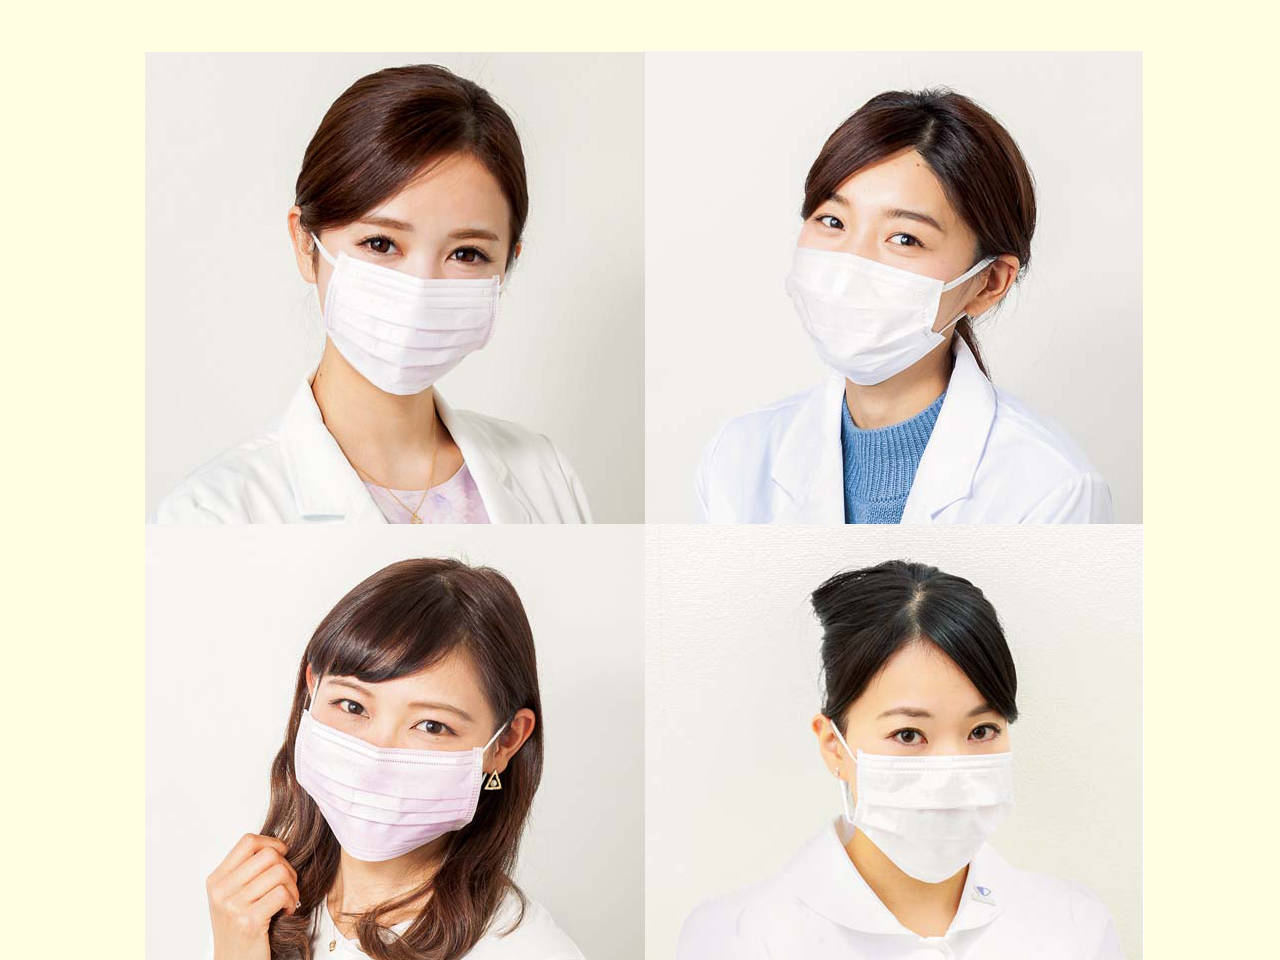mask: (317, 260, 503, 399), (291, 726, 478, 862), (789, 251, 941, 382), (855, 754, 1011, 881)
